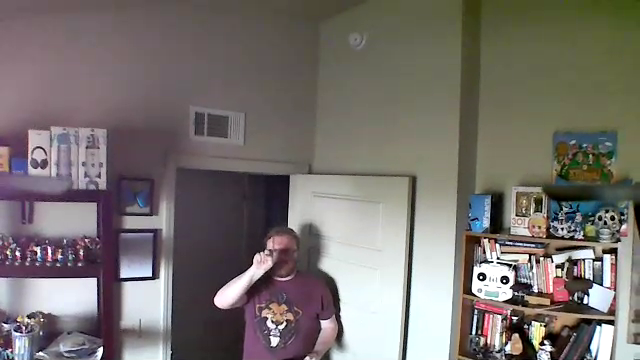up: (250, 233, 277, 272)
